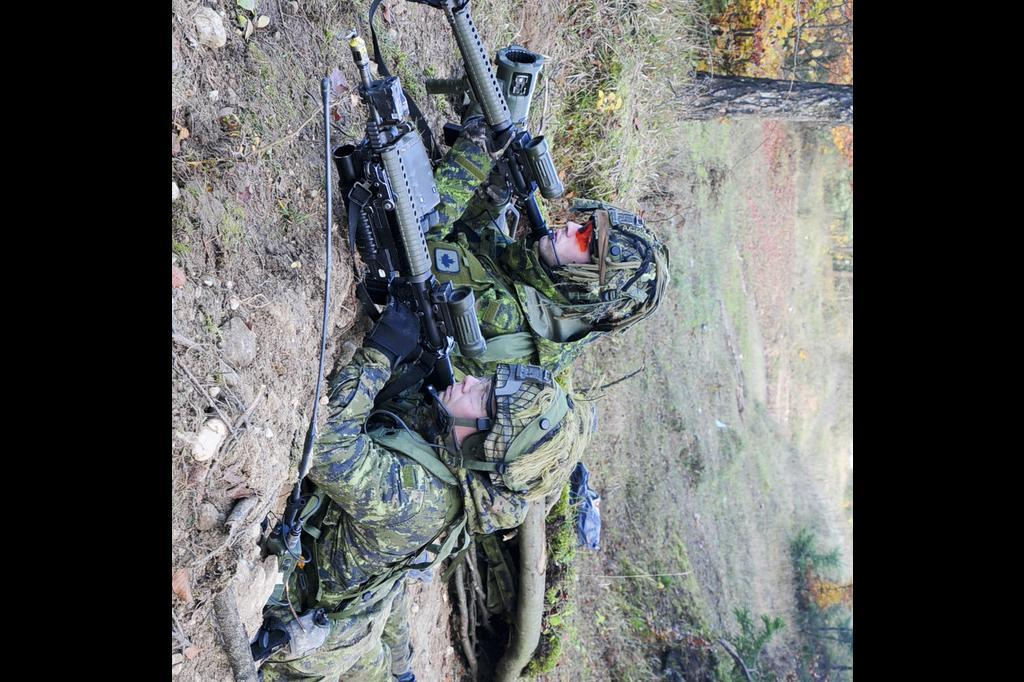gun: (328, 40, 508, 398), (450, 0, 569, 250)
